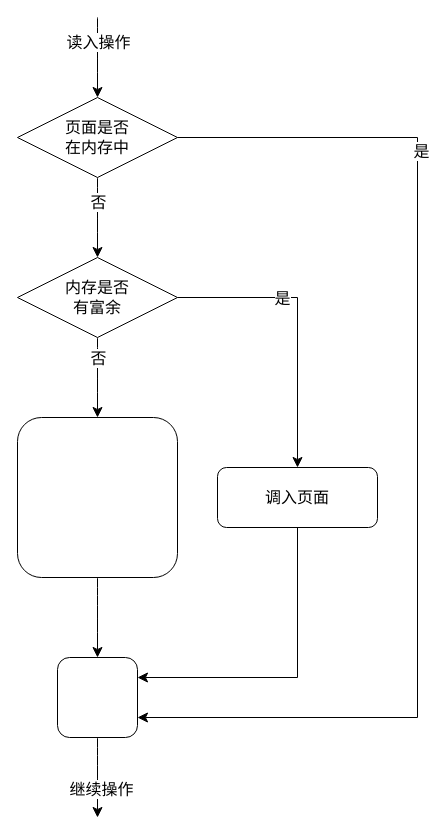
Image size: 446x834. Some labels were removed from this diagram. The box of each missing label's shape, as (x1, y1, x2, y2) in pixels:
执行目标操作: (56, 656, 138, 738)
根据运行流程，判断缓存中距离下一次被调用时间最长的页面，替换之为请求的页面: (16, 416, 178, 578)
